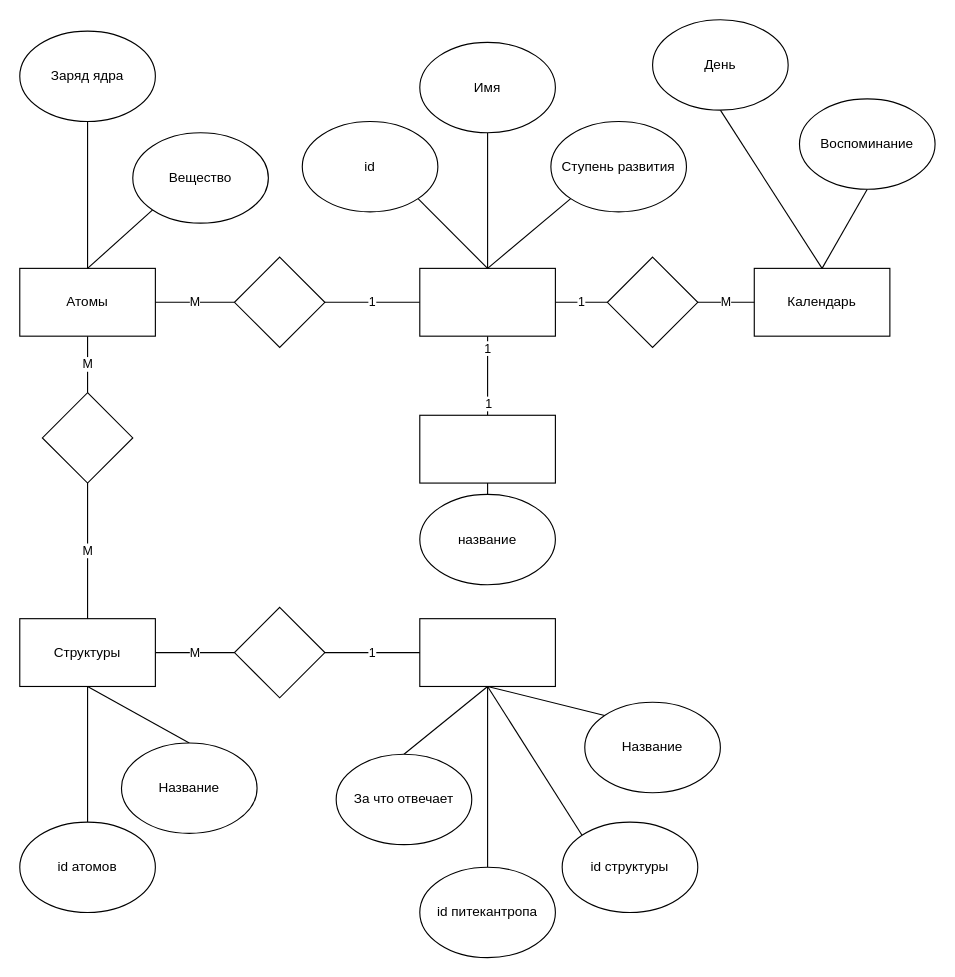
Some shapes in this 955 by 977 pixel diagram are drawn without their labels. The centre of each missing label's shape, as x and y in pixels:
"Вспоминает" goes at (652,301).
"Гены" goes at (487,652).
"Образуют" goes at (279,652).
"Питекантропы" goes at (487,301).
"Составляют" goes at (87,437).
"Состоит" goes at (279,301).
"Ступени эволюции" goes at (487,448).
